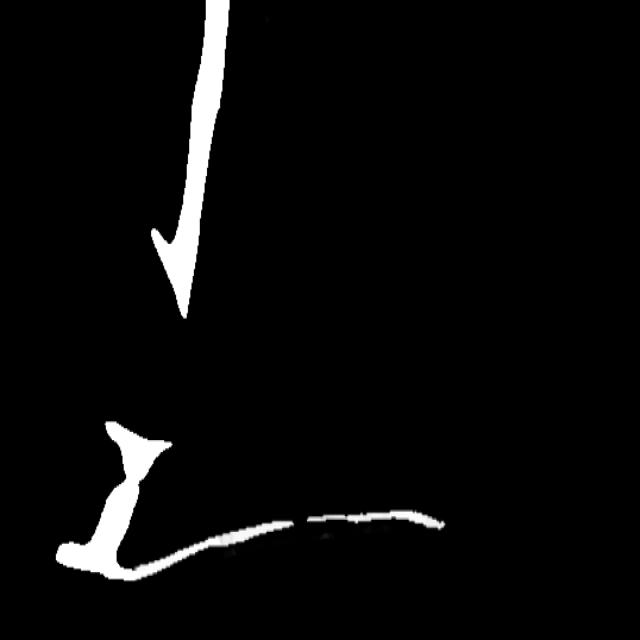sup: (284, 513, 312, 532)
